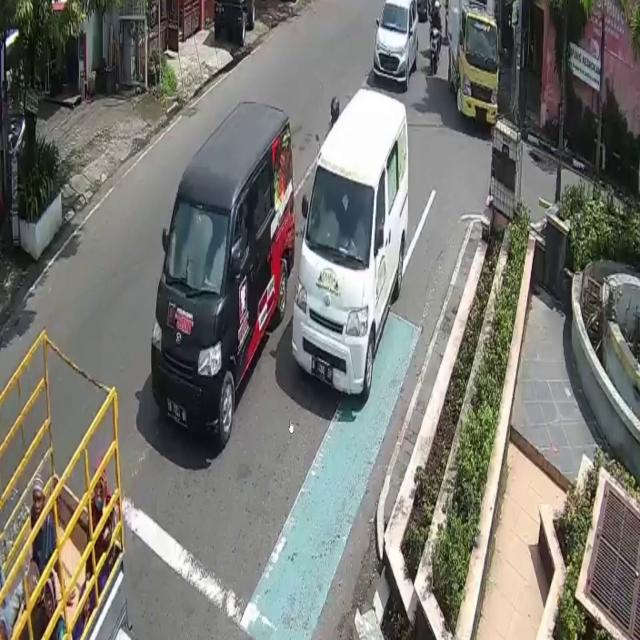motorcycle: (153, 102, 295, 446), (292, 88, 408, 402), (374, 0, 418, 94)
truck: (448, 0, 498, 131)
